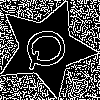Q: (21, 23, 78, 72)
